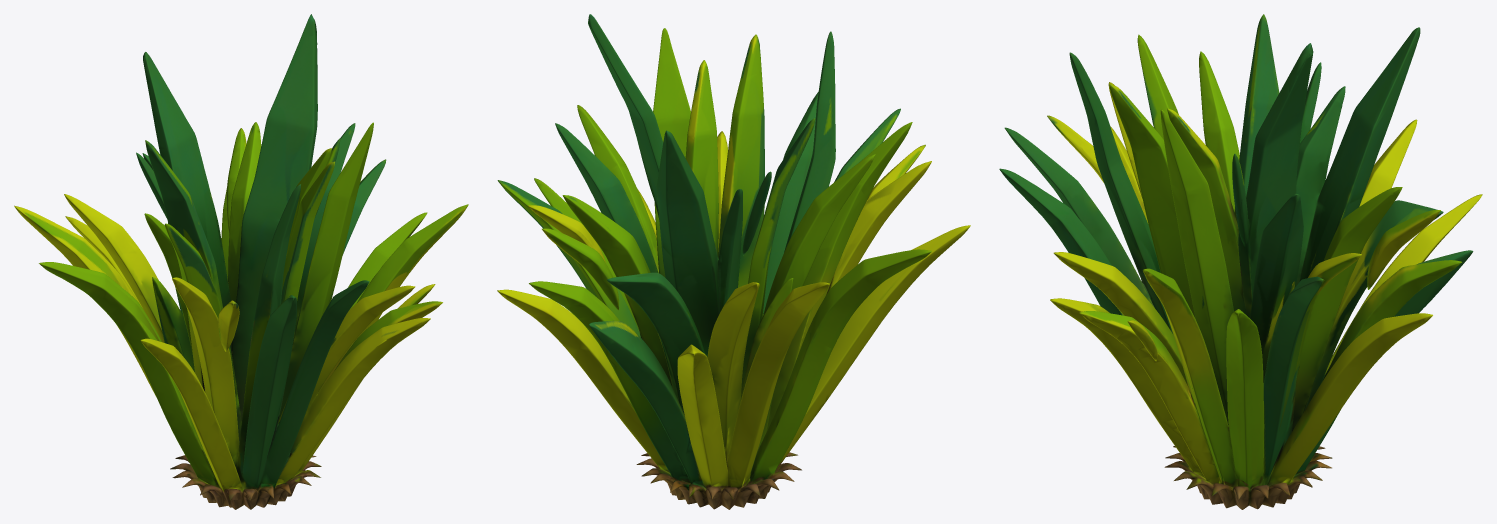
Rendered from grass-clump-a.glb.
The picture shows the model from 3 angles, left to right: view 1: azimuth 30°, elevation 25°; view 2: azimuth 150°, elevation 25°; view 3: azimuth 270°, elevation 25°; orthographic projection. The views are drawn at different scales.
Visible parts, largest first — view 1: node_0; view 2: node_0; view 3: node_0.
Part boxes in pixels (x1,y1,x2,y2): node_0: [14, 14, 468, 509]; node_0: [497, 14, 970, 509]; node_0: [999, 14, 1482, 509].
Size of the model in its own units: 0.9511 by 1.05 by 0.9222.
Materials: 1 (1 with a texture image).
